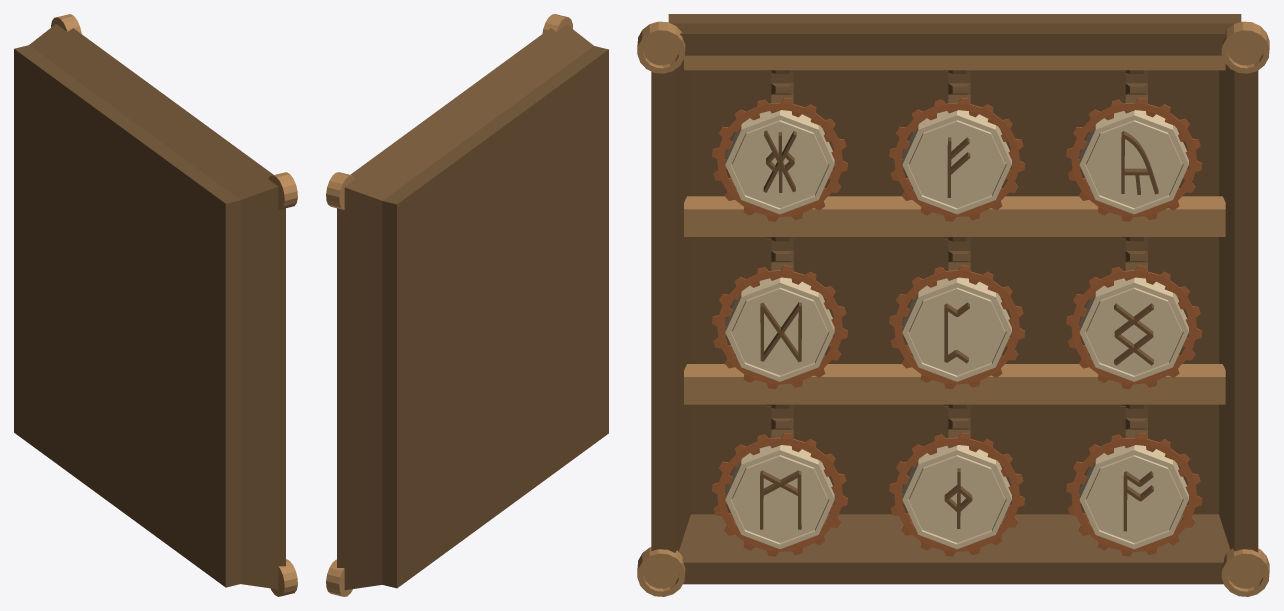
Rendered from PasswordPanelV2.fbx.
The picture shows the model from 3 angles, left to right: view 1: azimuth 30°, elevation 25°; view 2: azimuth 150°, elevation 25°; view 3: azimuth 270°, elevation 25°; orthographic projection. The views are drawn at different scales.
Parts seen in each view (by area): view 1: Board; view 2: Board; view 3: Board, Button.006, Button.007, Button.009, Button.008, Button.005, Button.004, Button.002, Button.001, Button.003.
Part boxes in pixels (x1,y1,x2,y2): Board: (14,14,297,596); Board: (326,14,608,596); Board: (637,14,1269,596); Button.006: (1066,237,1202,389); Button.007: (712,404,847,556); Button.009: (1066,404,1202,556); Button.008: (889,404,1025,556); Button.005: (889,237,1025,389); Button.004: (712,237,847,389); Button.002: (889,70,1025,221); Button.001: (712,70,847,221); Button.003: (1066,70,1202,221).
Size of the model in its own units: 9.43 by 50.16 by 50.71.
